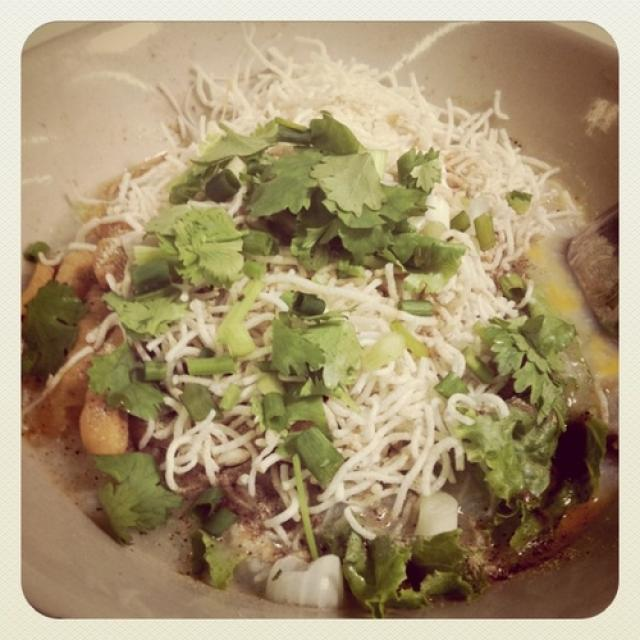面条主食: (37, 55, 602, 608)
